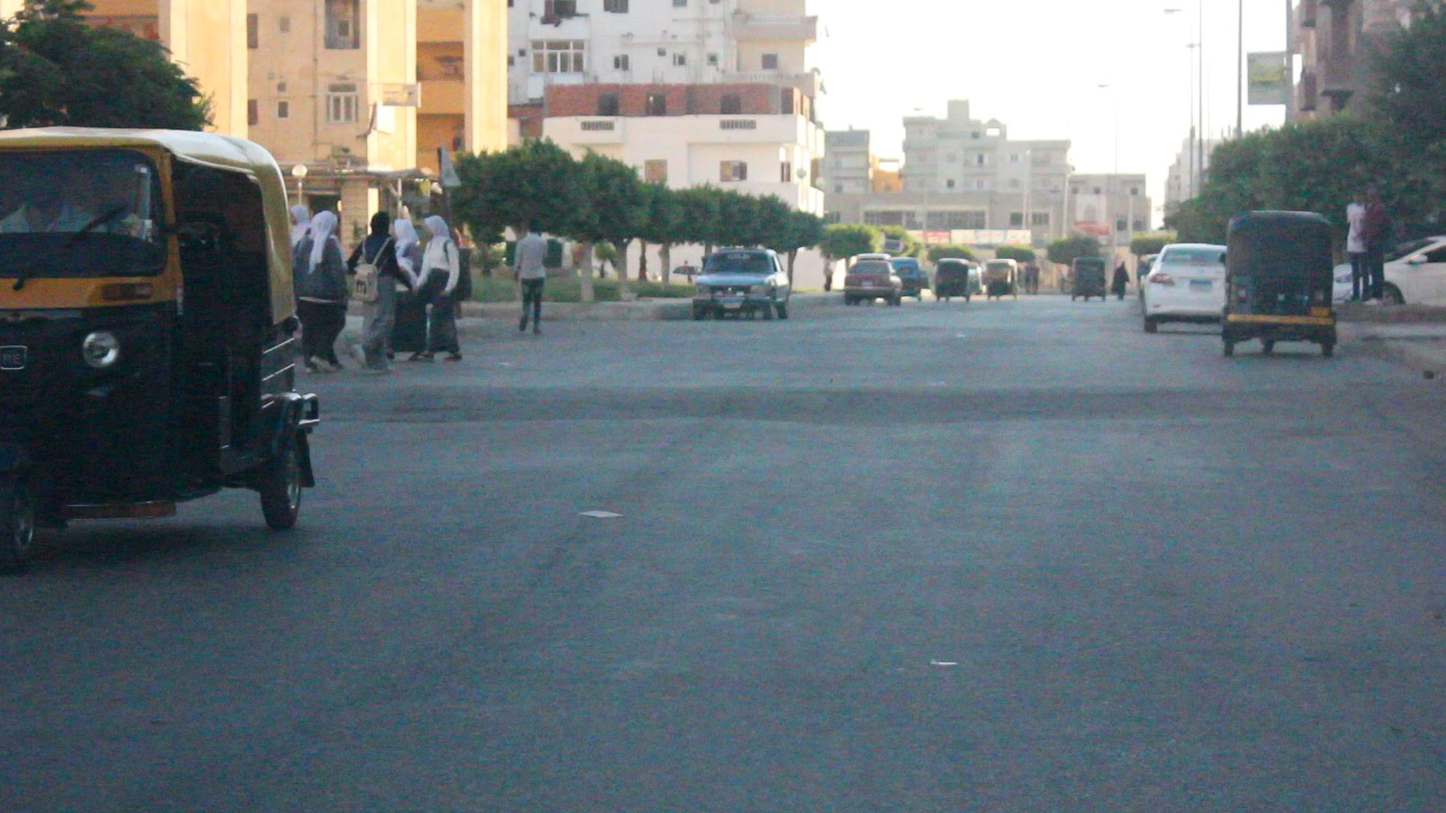Bump: (322, 365, 1446, 433)
